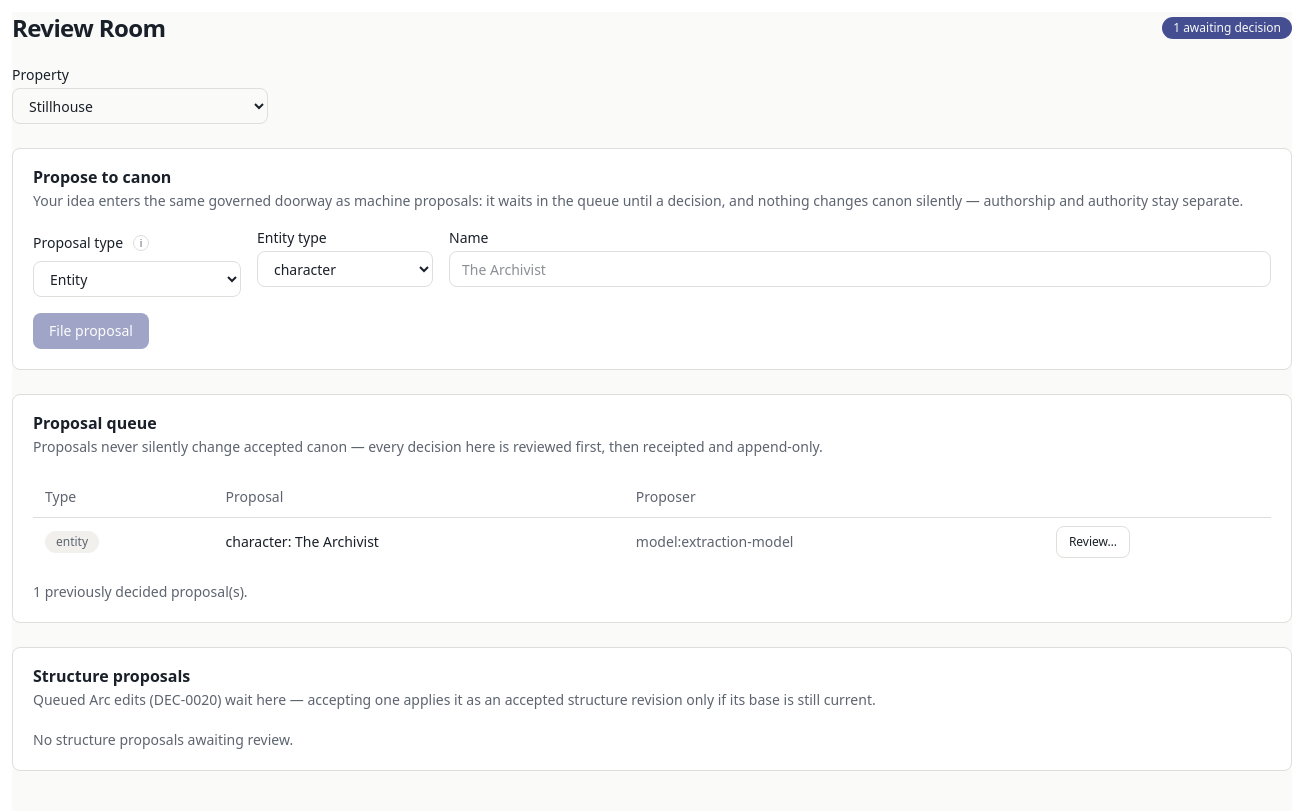
Test case: Review Room › files a human proposal through the same governed doorway (finding #5)
The image size is (1292, 811).
expect the text "character: The Archivist" is shown: met, box [214,517,624,566]
Step 1. Select "location" in the dropdown labelled "Entity type" → (345, 269), box [257,251,433,287]
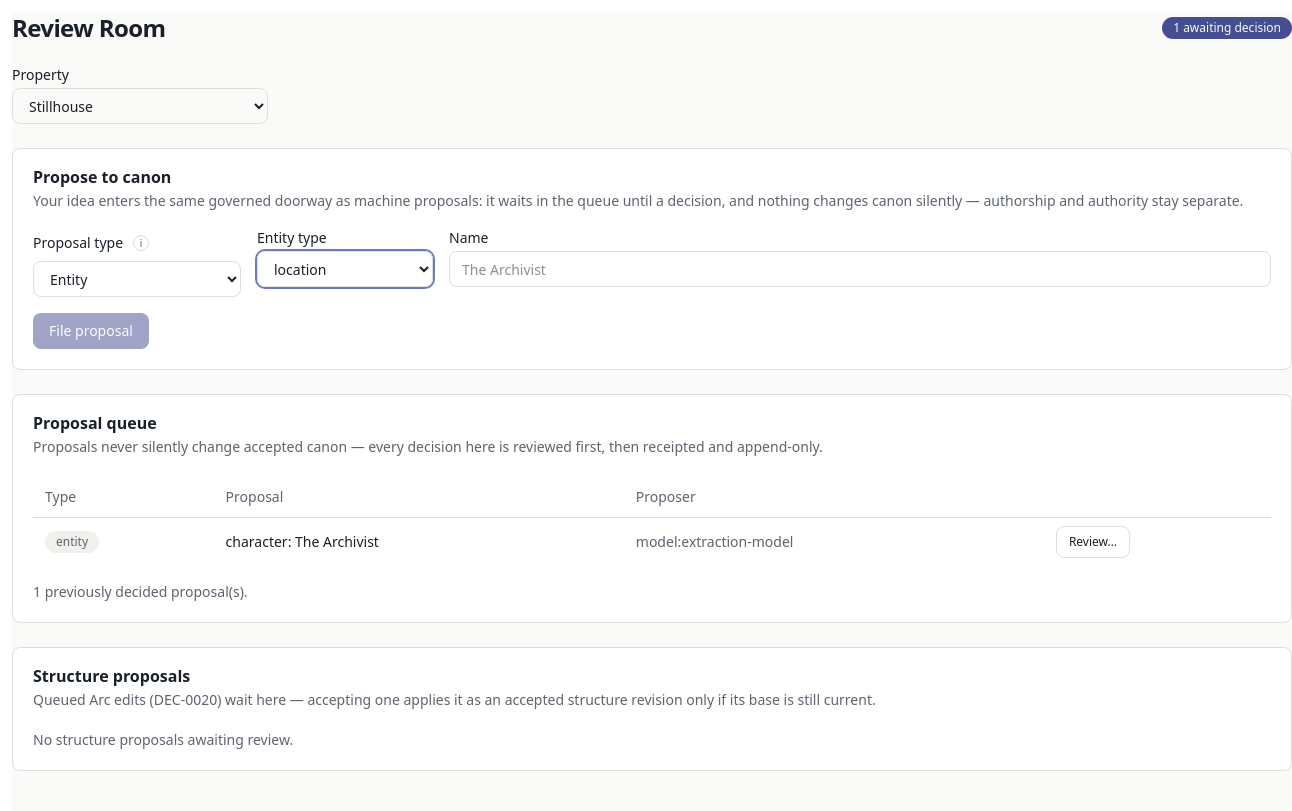
Step 2. Type "The Stillhouse Cellar" into the field labelled "Name" → (860, 269), box [449,251,1271,287]
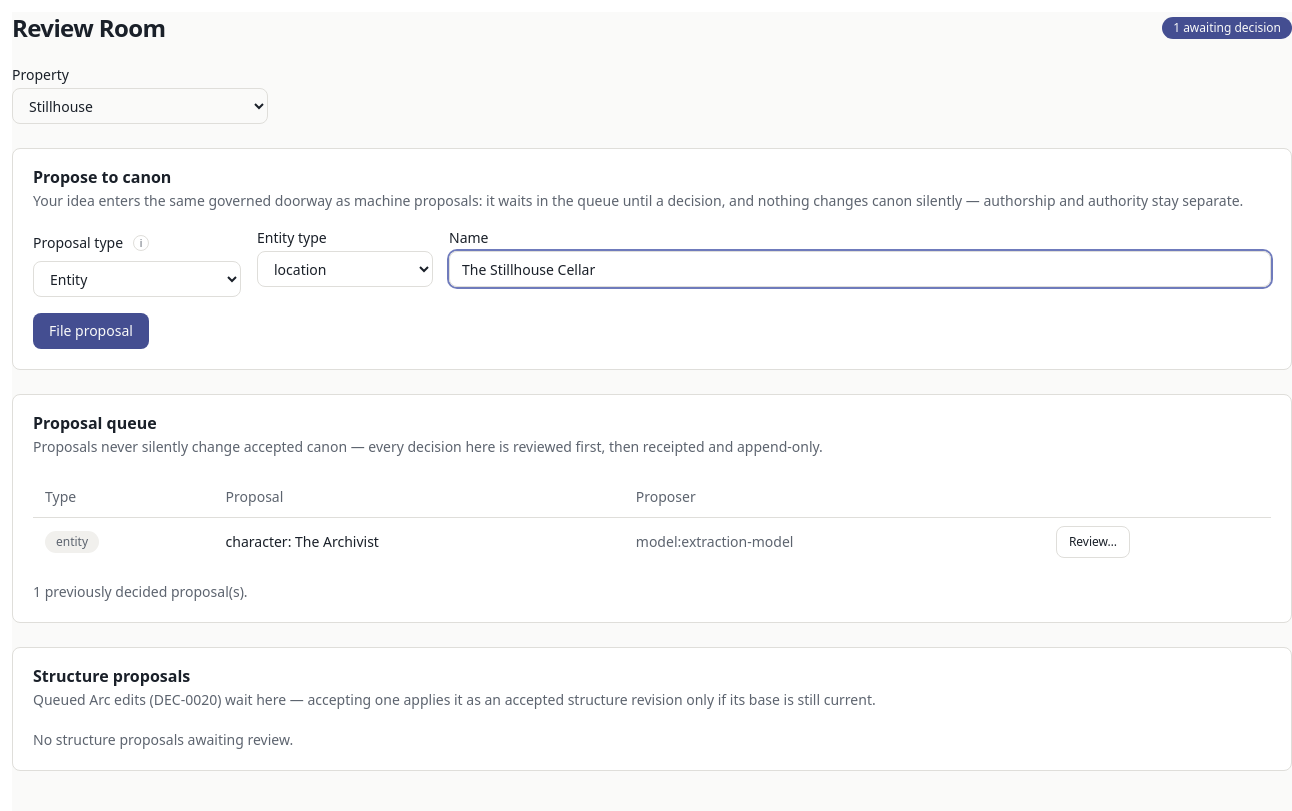
Step 3. Click the button "File proposal" → (91, 331), box [33,313,149,349]
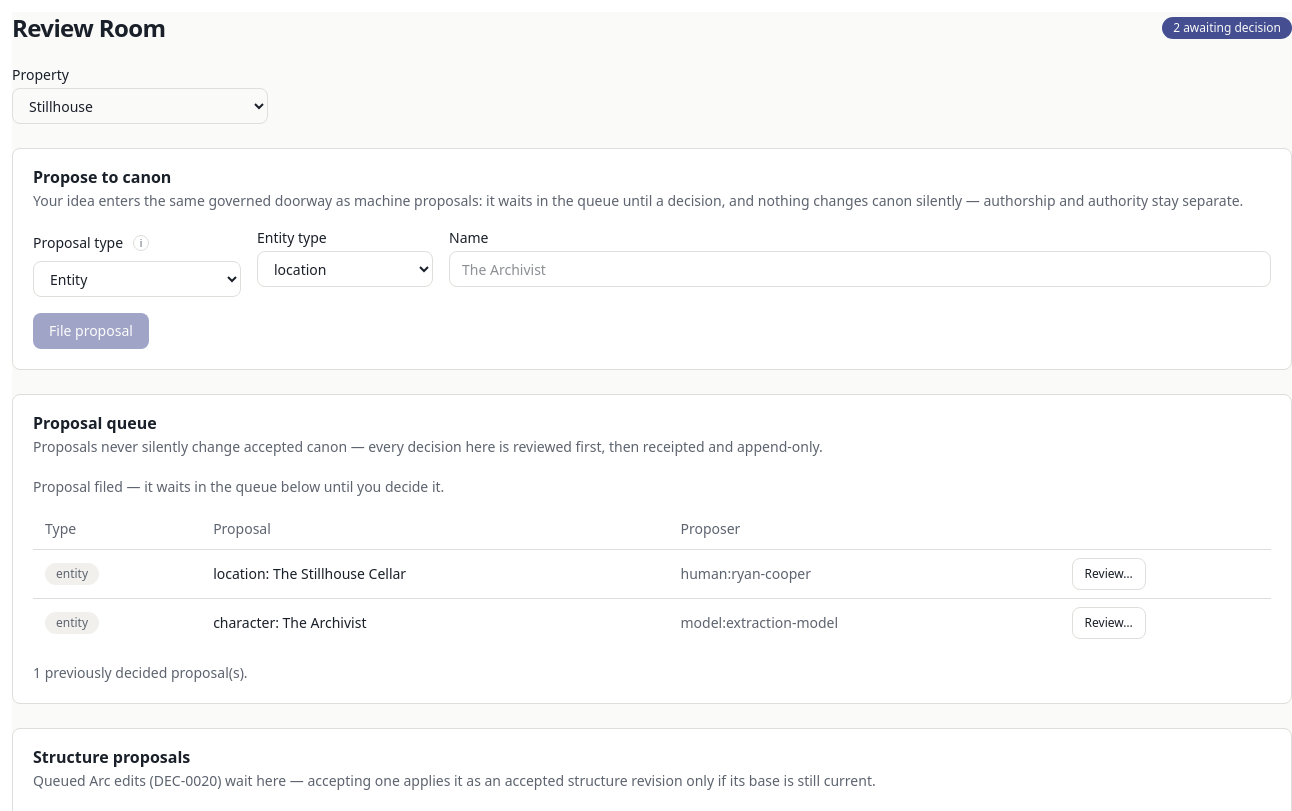
expect the text "location: The Stillhouse Cellar" is shown: met, box [201,549,668,598]
expect the text "2 awaiting decision" is shown: met, box [1162,17,1291,39]
